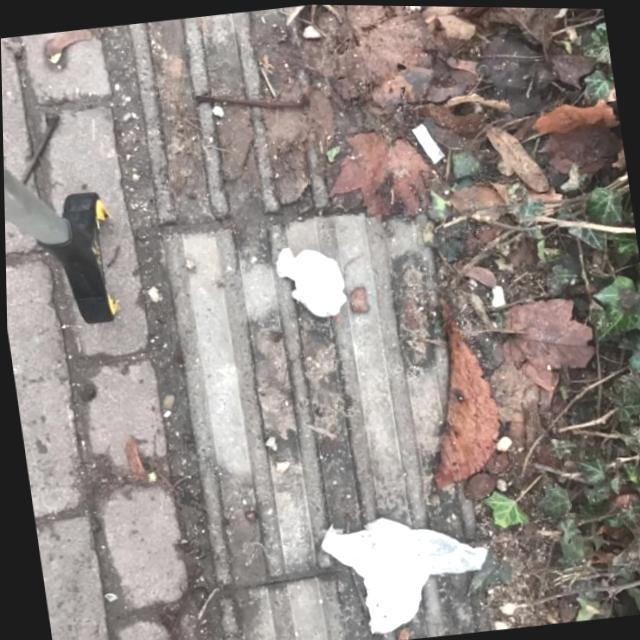Paper: (310, 500, 496, 640), (264, 240, 348, 324)
